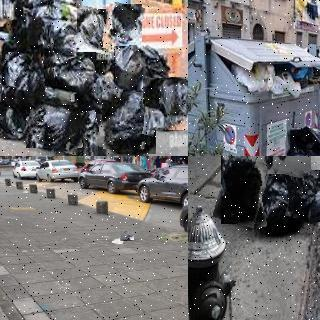Garbage: (98, 89, 159, 156), (216, 156, 268, 226), (249, 174, 303, 236), (24, 101, 86, 152), (52, 111, 111, 156), (143, 77, 188, 130), (1, 51, 46, 100), (41, 58, 97, 96), (75, 7, 117, 54), (287, 168, 320, 223), (104, 3, 144, 48), (113, 43, 145, 89), (283, 123, 320, 156), (257, 156, 314, 176), (120, 231, 134, 241)
